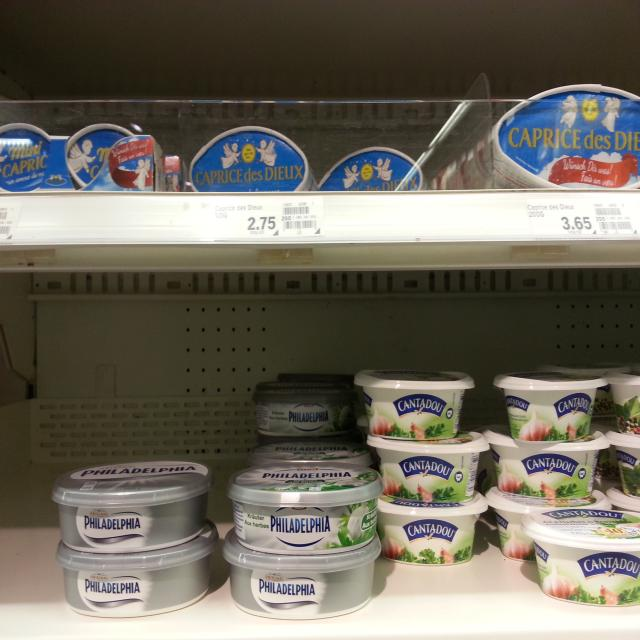Cheese: (56, 519, 220, 617), (490, 82, 640, 189), (220, 524, 380, 620), (54, 456, 214, 552), (230, 461, 384, 554), (0, 115, 163, 192), (521, 507, 640, 607), (485, 479, 614, 563), (486, 424, 610, 500), (375, 487, 488, 567), (188, 123, 313, 195), (365, 432, 491, 502), (356, 365, 475, 439), (494, 369, 613, 440), (252, 386, 360, 437), (318, 144, 423, 194)
